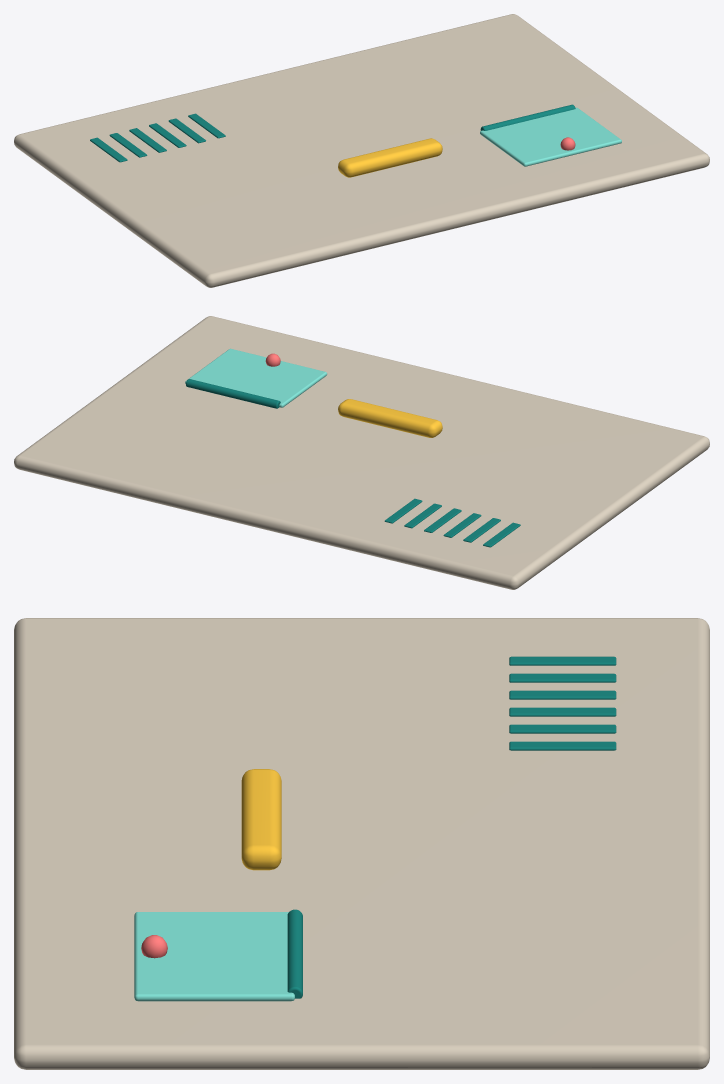
The model's file is TankLid.fbx.
3 views of the same model, one above another, from view 1: azimuth 30°, elevation 25°; view 2: azimuth 150°, elevation 25°; view 3: azimuth 270°, elevation 25° (orthographic). The views are drawn at different scales.
Visible parts, largest first — view 1: TankLid mesh; view 2: TankLid mesh; view 3: TankLid mesh.
Part boxes in pixels (left/top/right/bottom): TankLid mesh: left=14, top=14, right=709, bottom=287; TankLid mesh: left=14, top=316, right=709, bottom=589; TankLid mesh: left=14, top=618, right=709, bottom=1069.
Bounding box in the file's own units: 1.54 × 0.08 × 1.04.
